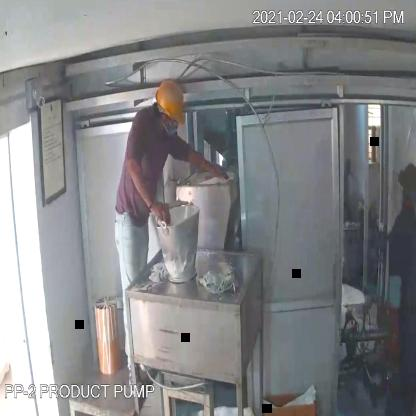helmet: (152, 76, 189, 127)
